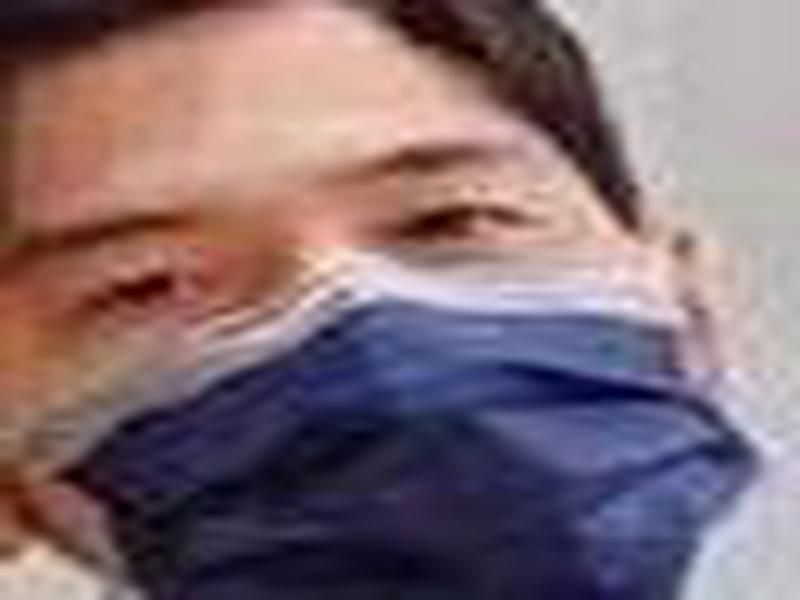with_mask: (1, 1, 790, 597)
